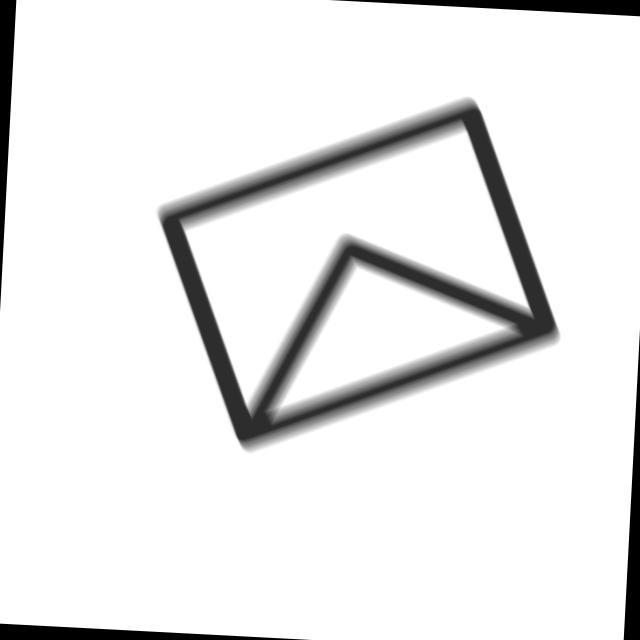letter: (142, 77, 577, 477)
